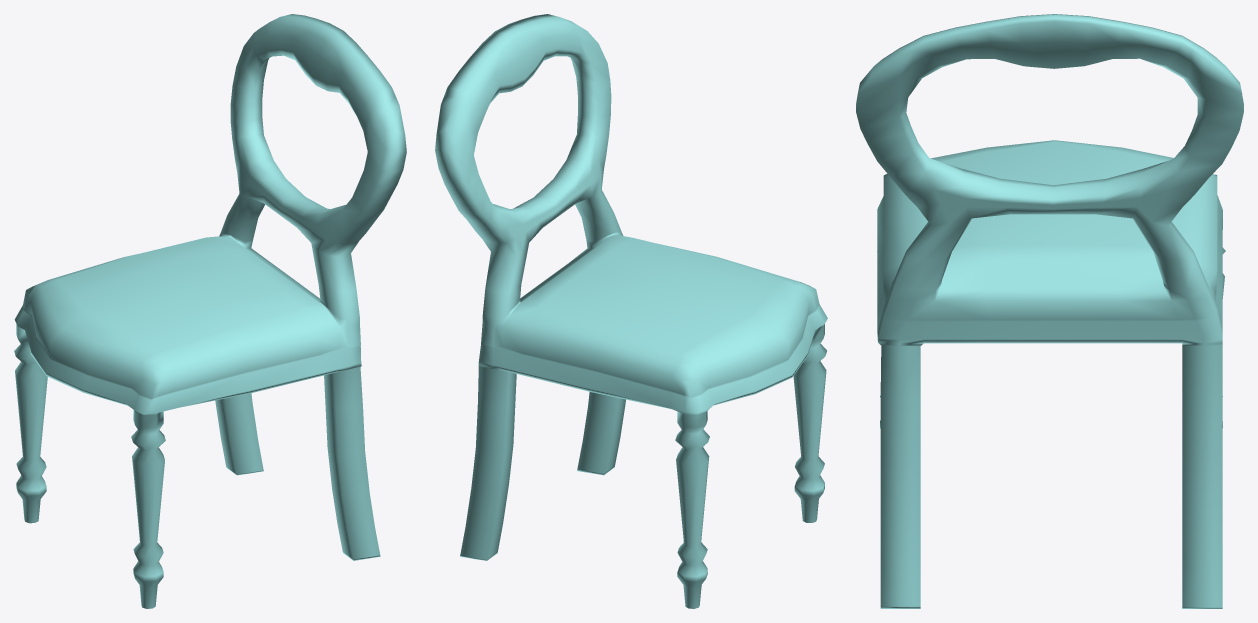
File: FYP_asset_diningRoom_chair.fbx
3 renders of one model, left to right at view 1: azimuth 30°, elevation 25°; view 2: azimuth 150°, elevation 25°; view 3: azimuth 270°, elevation 25°, orthographic. The views are drawn at different scales.
Visible parts, largest first — view 1: chair_OBJ; view 2: chair_OBJ; view 3: chair_OBJ.
Part boxes in pixels (x1=…): chair_OBJ: x1=14, y1=14, x2=406, y2=608; chair_OBJ: x1=435, y1=14, x2=827, y2=608; chair_OBJ: x1=856, y1=14, x2=1243, y2=608.
Bounding box in the file's own units: 23.09 × 34.84 × 20.18.
